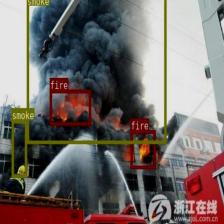fire: (49, 89, 91, 124), (130, 130, 155, 168)
smoke: (25, 0, 165, 142), (11, 120, 26, 177)
